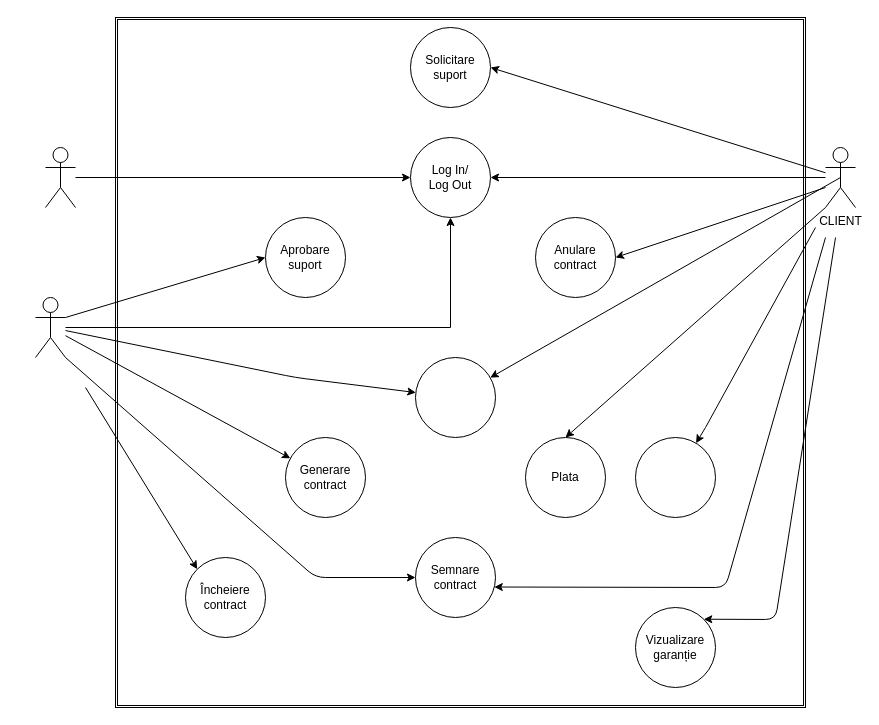
The diagram is 879 pixels wide and 725 high, and some of its shapes have lost their labels. The shapes that lost their labels are listed below. From the top down, each one's centre as x and y in pixels, then its label:
point 60,177: ADMIN
point 50,327: CONTRACT MANAGER
point 455,397: Vizualizare contract
point 675,477: Cerere contract
